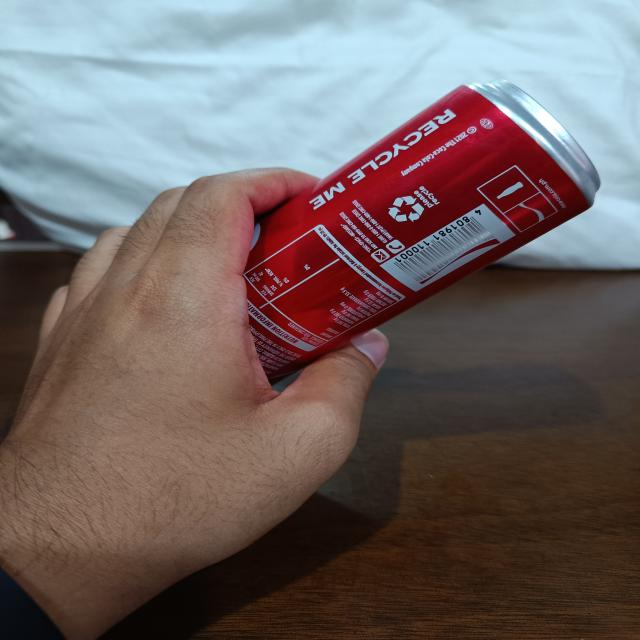coke: (220, 76, 603, 386)
